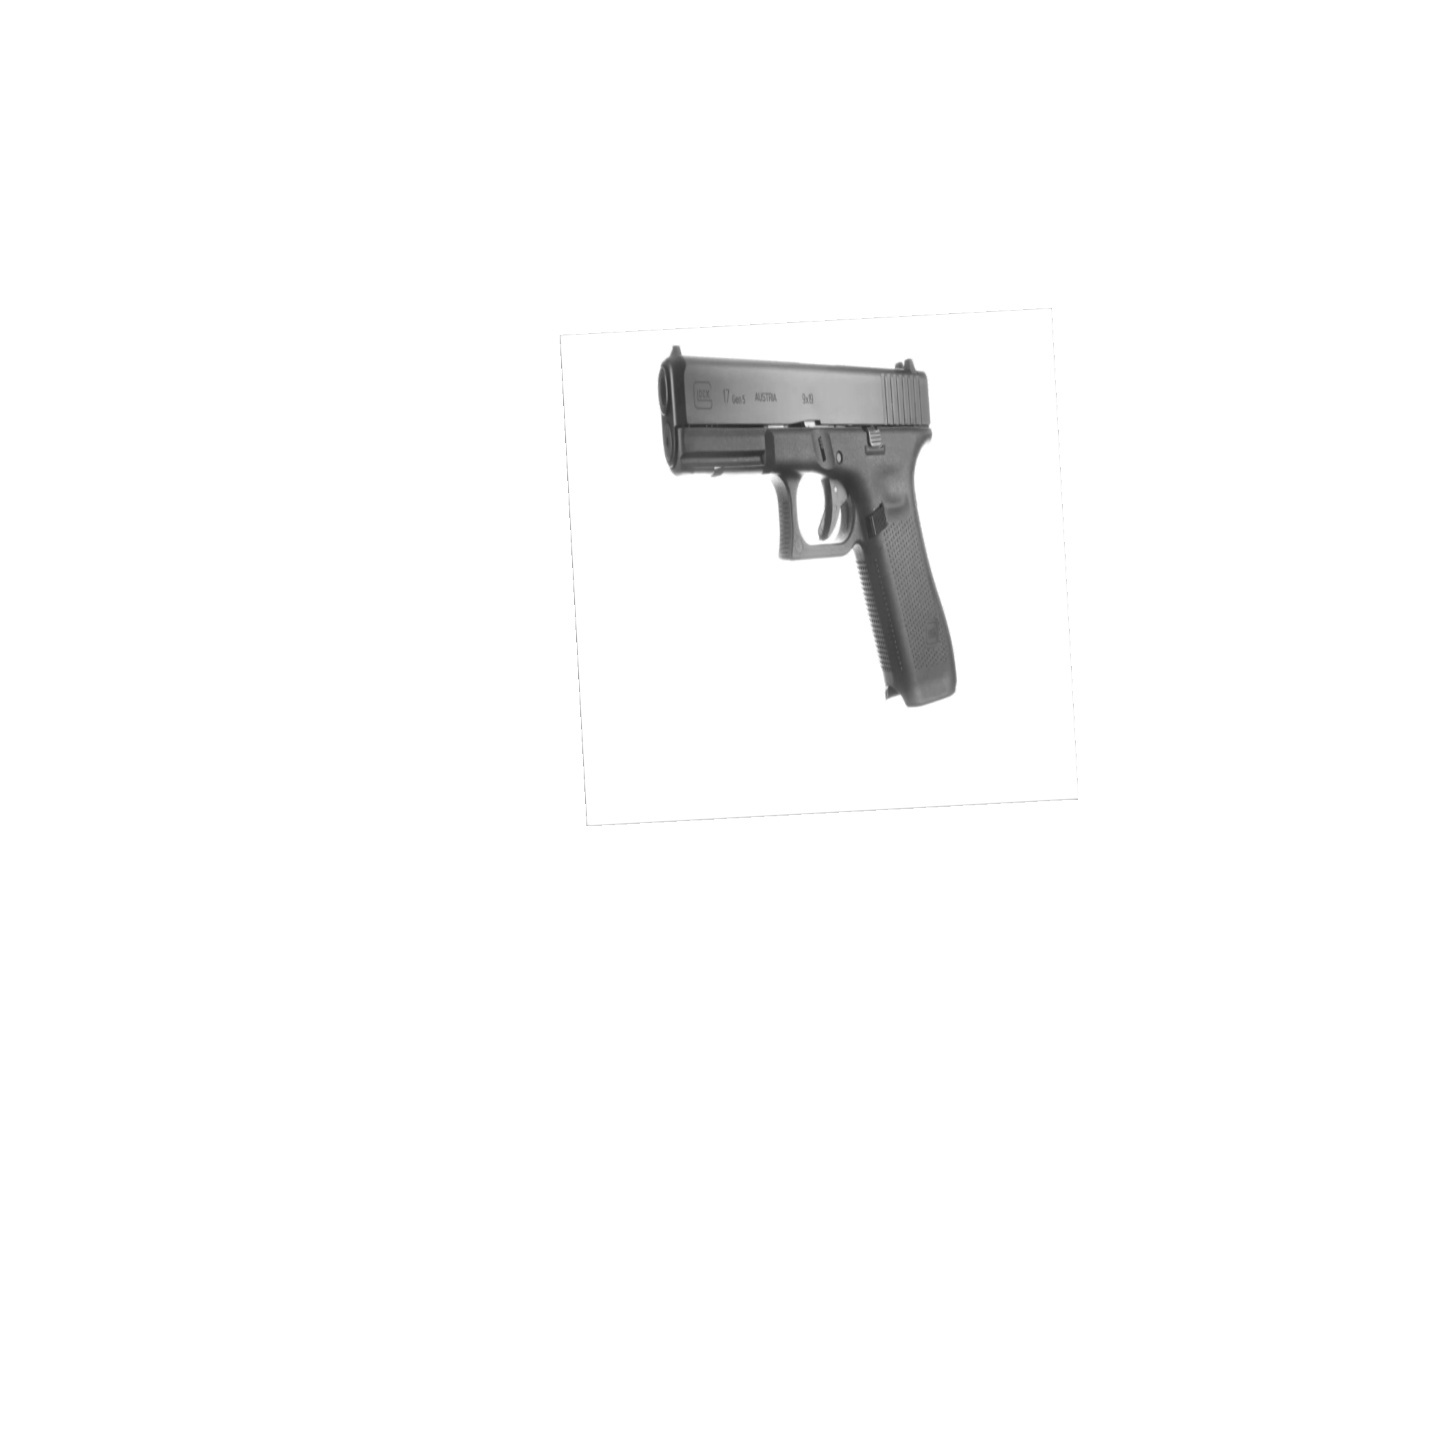gun: (633, 334, 974, 719)
